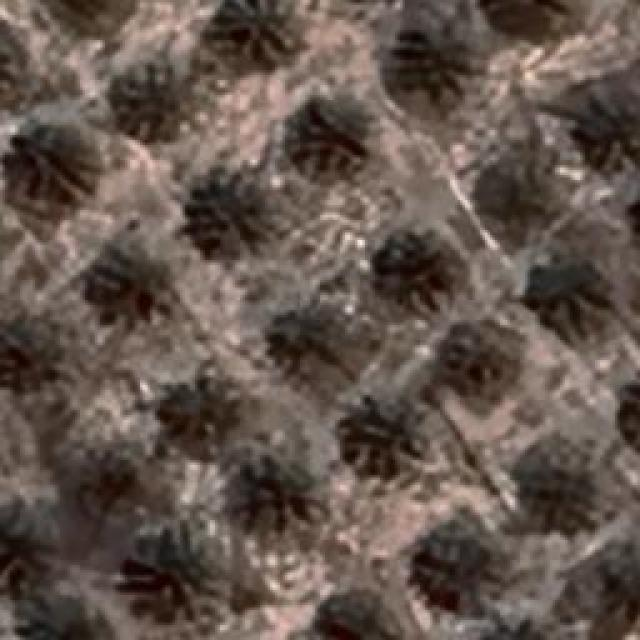PalmTree: (67, 85, 613, 587), (110, 48, 210, 142), (34, 79, 67, 355), (280, 84, 375, 178), (388, 10, 482, 100), (2, 120, 100, 205), (180, 167, 272, 255), (522, 250, 610, 340), (230, 442, 320, 530), (118, 532, 216, 610), (340, 392, 425, 478), (416, 525, 502, 610), (438, 335, 532, 405), (157, 372, 240, 450), (522, 452, 602, 532), (371, 231, 459, 301), (85, 251, 173, 321), (481, 150, 564, 222), (218, 0, 300, 70), (0, 502, 75, 576), (574, 90, 638, 172), (272, 305, 350, 370), (80, 447, 158, 505), (15, 587, 100, 640), (325, 585, 395, 640), (481, 0, 581, 32), (469, 615, 557, 640), (615, 368, 640, 454), (0, 15, 23, 101), (620, 366, 640, 454), (40, 0, 136, 18), (468, 623, 556, 640), (0, 11, 15, 102), (0, 13, 12, 101), (630, 172, 640, 260)
